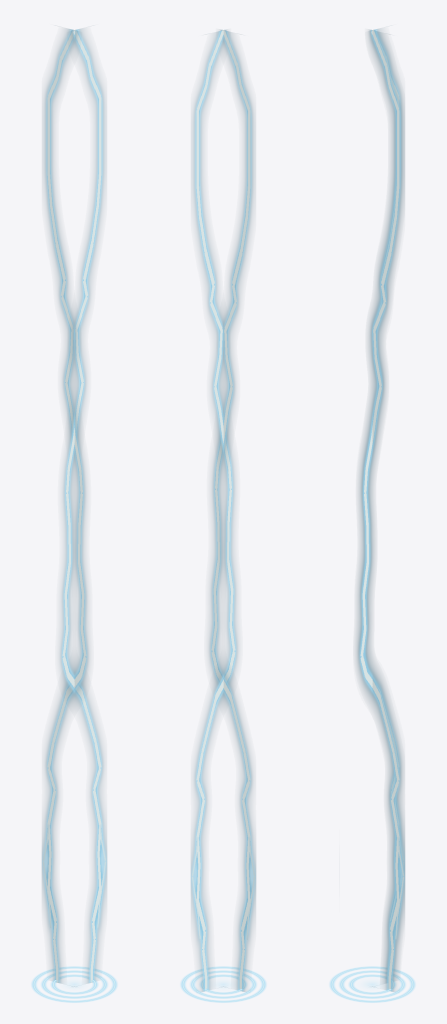
Rendered from fx_sigil_t3.glb.
3 views of the same model, side by side, from view 1: azimuth 30°, elevation 25°; view 2: azimuth 210°, elevation 25°; view 3: azimuth 330°, elevation 25° (orthographic).
Visible parts, largest first — view 1: fx_bolt, fx_impact; view 2: fx_bolt, fx_impact; view 3: fx_bolt, fx_impact.
Part boxes in pixels (x1,y1,x2,y2): fx_bolt: (42, 28, 106, 986); fx_impact: (31, 966, 117, 1002); fx_bolt: (190, 30, 256, 991); fx_impact: (180, 966, 266, 1002); fx_bolt: (355, 28, 405, 991); fx_impact: (329, 966, 415, 1002).
Bounding box in the file's own units: 1 × 12 × 1.
Materials: 2 (2 with a texture image).
